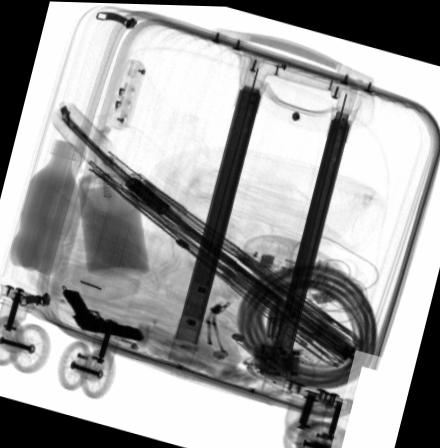Gun: (61, 286, 145, 338)
